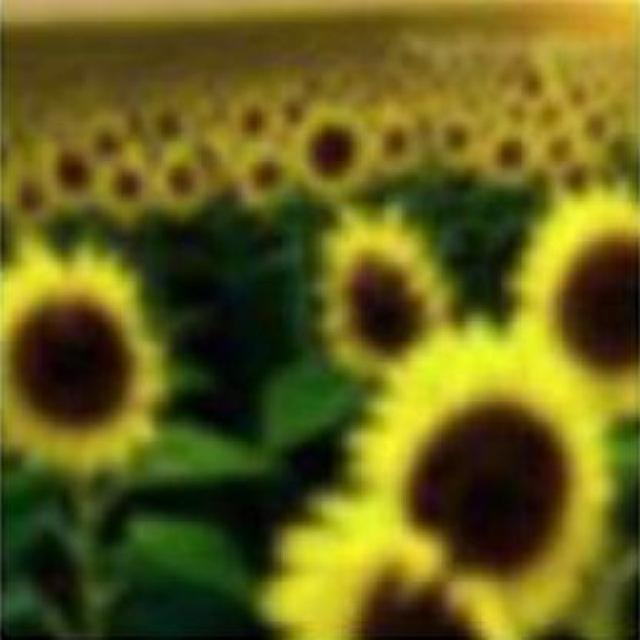sunflower: (334, 321, 613, 640), (0, 243, 169, 477), (290, 104, 376, 198)
